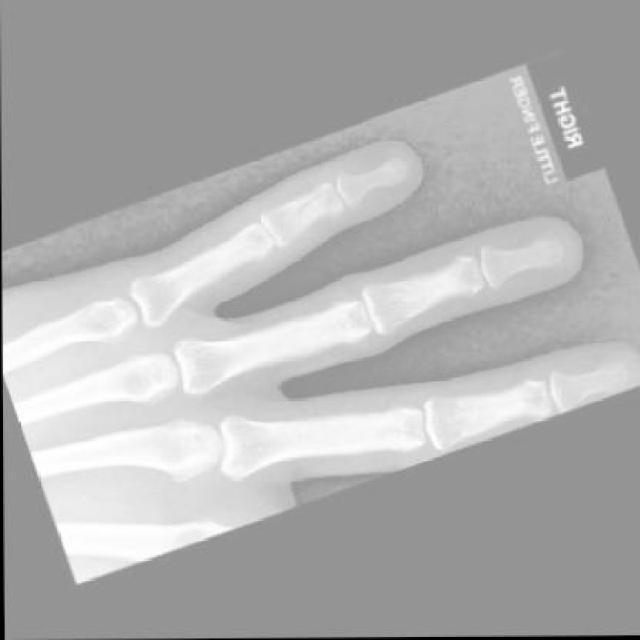Fracture: (280, 177, 345, 228)
